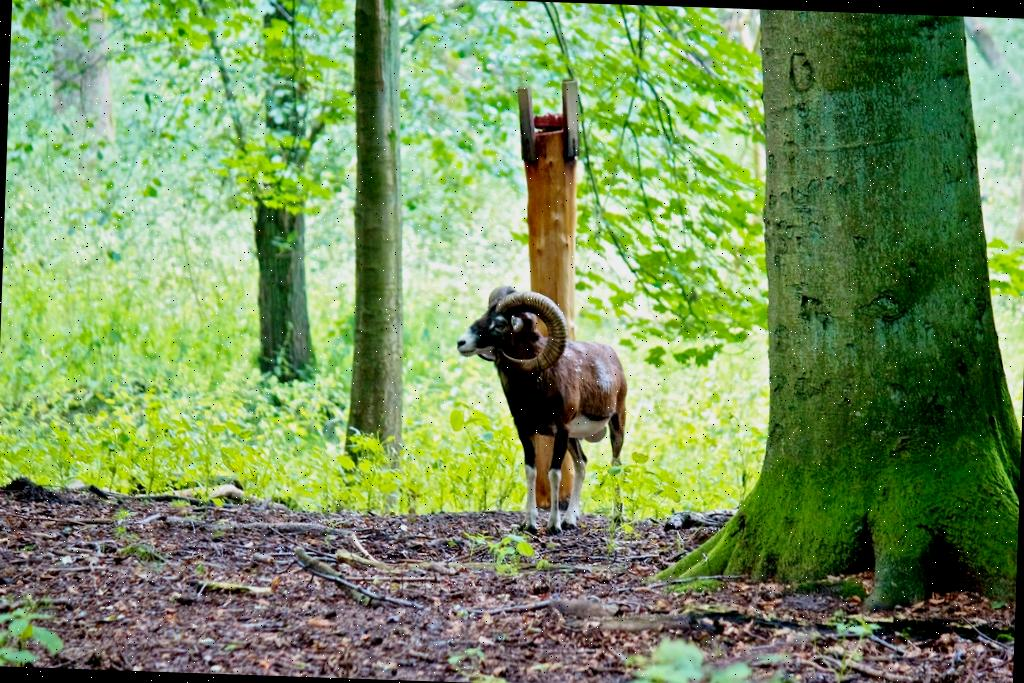Sheep: (450, 284, 628, 534)
